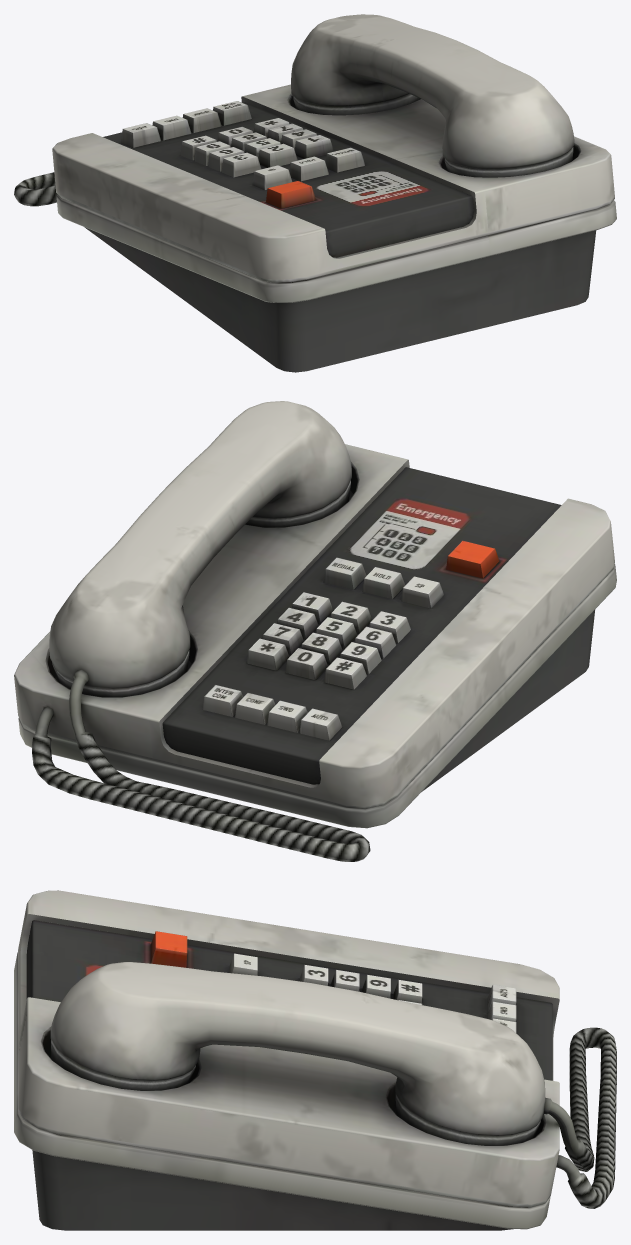
The model's file is office_phone.glb.
3 renders of one model, top to bottom at view 1: azimuth 30°, elevation 25°; view 2: azimuth 150°, elevation 25°; view 3: azimuth 270°, elevation 25°, orthographic. The views are drawn at different scales.
Visible parts, largest first — view 1: phone_a; view 2: phone_a; view 3: phone_a.
Part boxes in pixels (bbox=[...]): phone_a: bbox=[14, 14, 616, 372]; phone_a: bbox=[14, 401, 616, 861]; phone_a: bbox=[14, 890, 616, 1230].
Size of the model in its own units: 12.28 by 6.53 by 15.68.
1 material, 1 textured.
